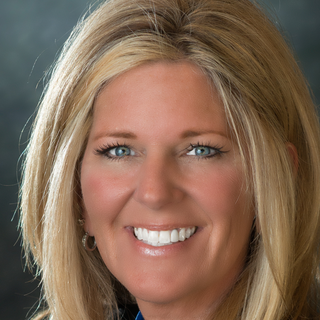eye: (172, 136, 229, 163), (92, 140, 143, 165)
